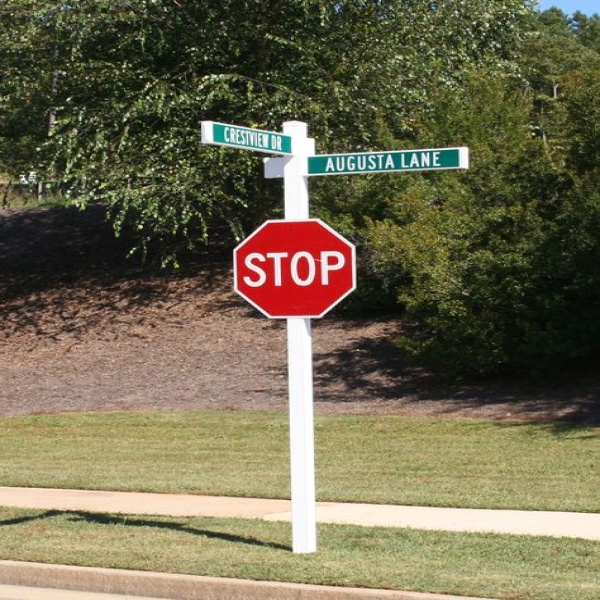stop: (243, 215, 354, 325)
